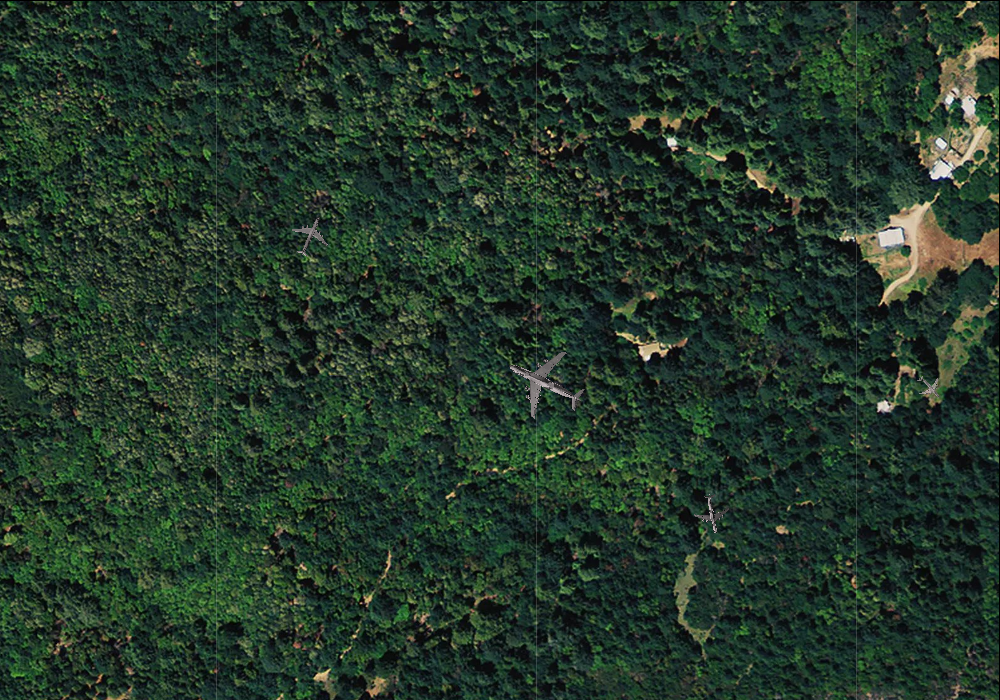plane: (493, 332, 597, 434), (283, 208, 336, 263), (690, 491, 734, 537), (910, 368, 949, 407)
